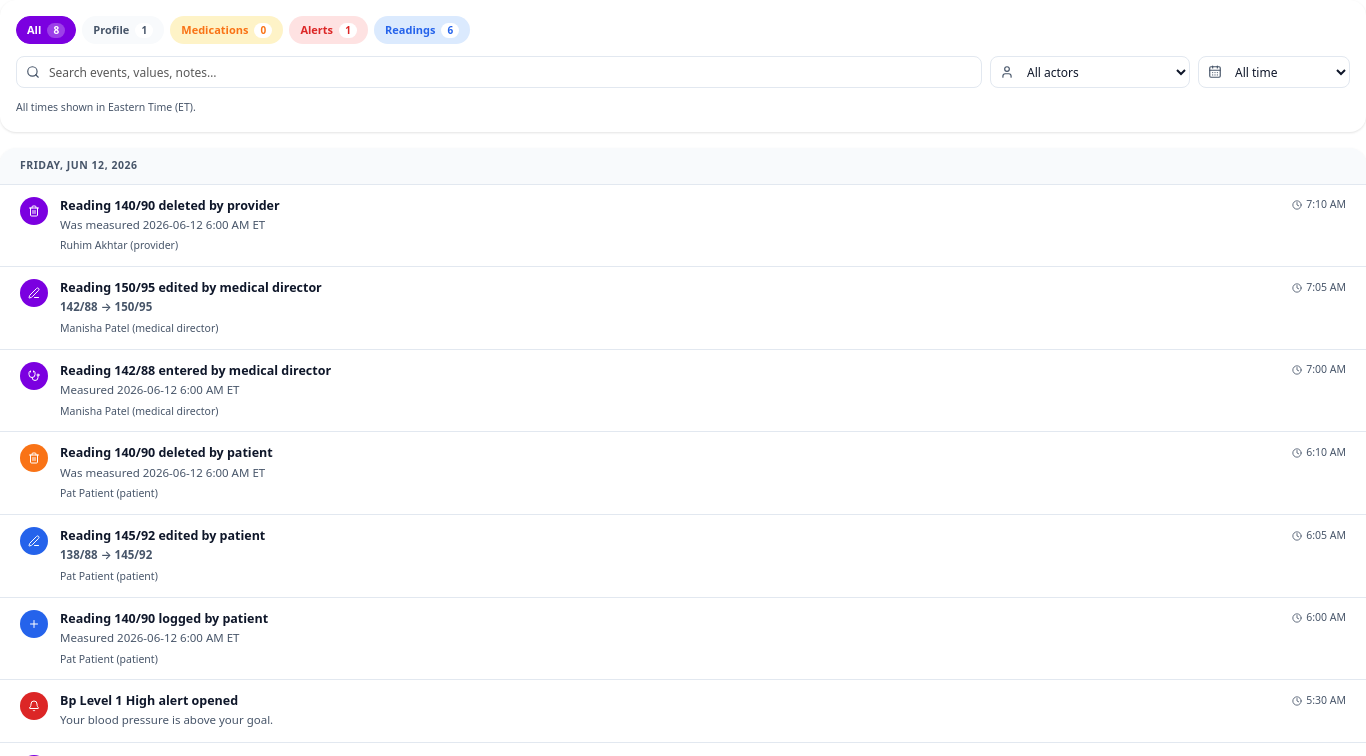
Test: TimelineTab — READINGS filter › READINGS filter shows only the 6 reading event types
The width and height of the screenshot is (1366, 756).
Click the button with test id "admin-timeline-filter-READINGS" at (422,30), box 374,16 -> 470,44
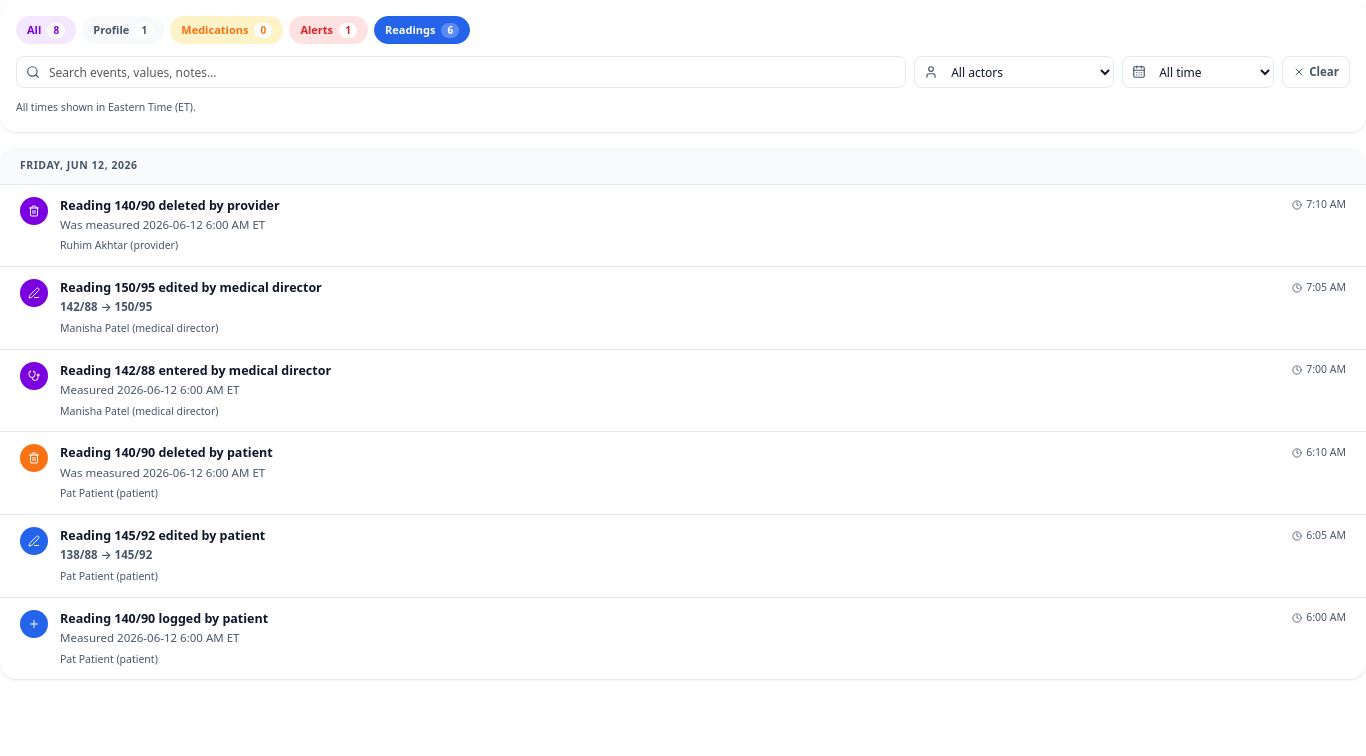
Check: the list item with test id "admin-timeline-entry-verif-r1" is shown, box 0,597 -> 1365,679
Check: the list item with test id "admin-timeline-entry-alert-created-alert-1" is gone
